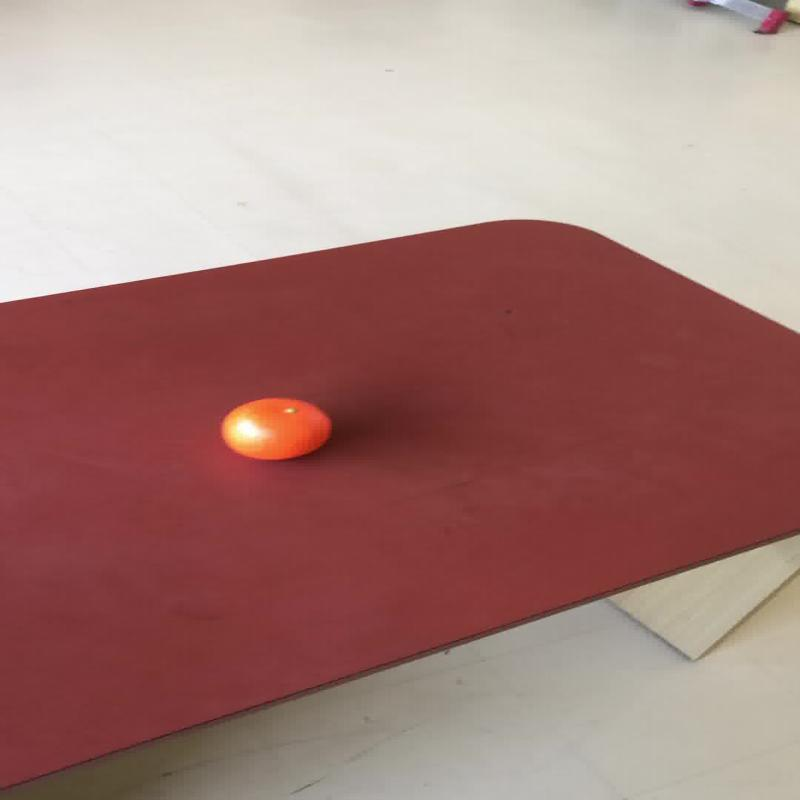orange: (218, 397, 332, 461)
